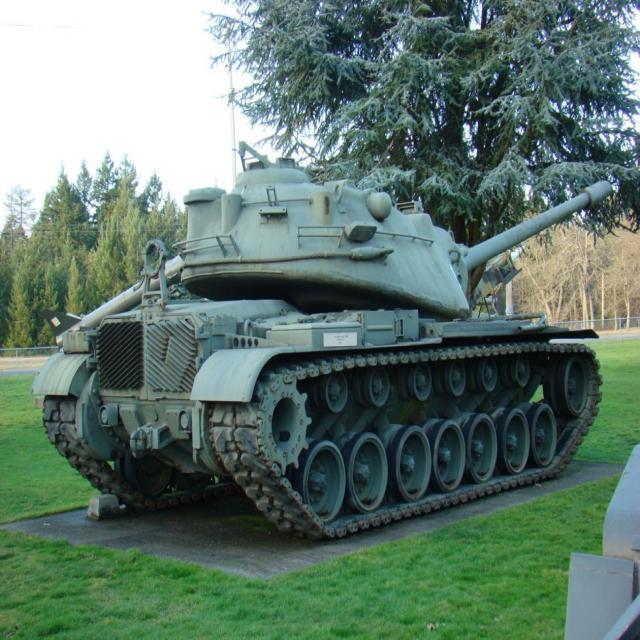MIL_MBT: (35, 138, 616, 543)
